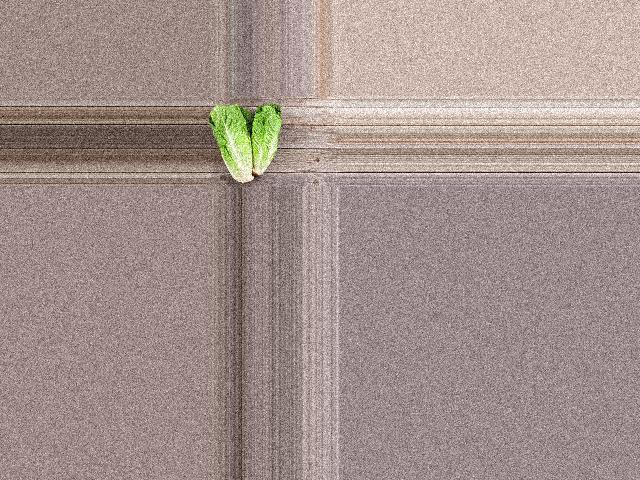lettuce: (207, 101, 254, 186)
